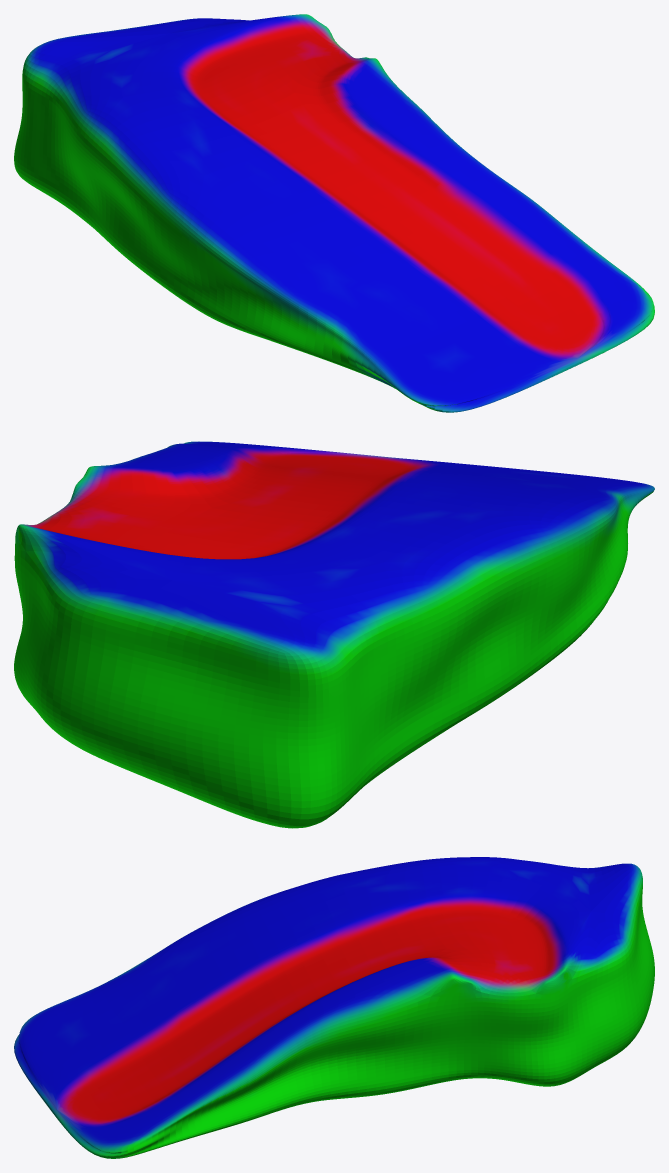
The model's file is level_one_platform_5.fbx.
3 views of the same model, one above another, from view 1: azimuth 30°, elevation 25°; view 2: azimuth 150°, elevation 25°; view 3: azimuth 270°, elevation 25° (orthographic). The views are drawn at different scales.
Parts seen in each view (by area): view 1: Platform04; view 2: Platform04; view 3: Platform04.
Part boxes in pixels (x1,y1,x2,y2): Platform04: (14, 14, 654, 412); Platform04: (14, 441, 654, 828); Platform04: (14, 857, 654, 1158).
Size of the model in its own units: 1224 by 798 by 308.
